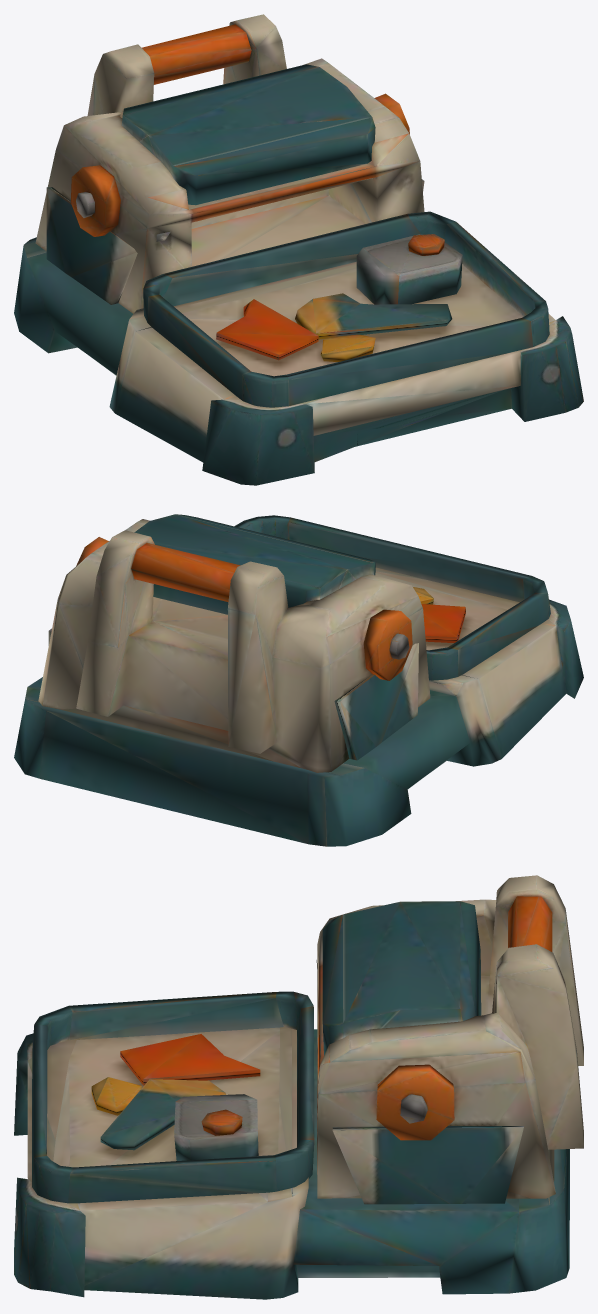
The model's file is source_plastic-lod0.66757f9818db.glb.
The picture shows the model from 3 angles, top to bottom: view 1: azimuth 30°, elevation 25°; view 2: azimuth 150°, elevation 25°; view 3: azimuth 270°, elevation 25°; orthographic projection. The views are drawn at different scales.
Parts seen in each view (by area): view 1: geometry_0; view 2: geometry_0; view 3: geometry_0.
Part boxes in pixels (<box>): geometry_0: <box>14,14,583,485</box>; geometry_0: <box>14,514,583,846</box>; geometry_0: <box>14,875,583,1299</box>.
Bounding box in the file's own units: 0.8814 × 0.5386 × 1.
Materials: 1 (1 with a texture image).
